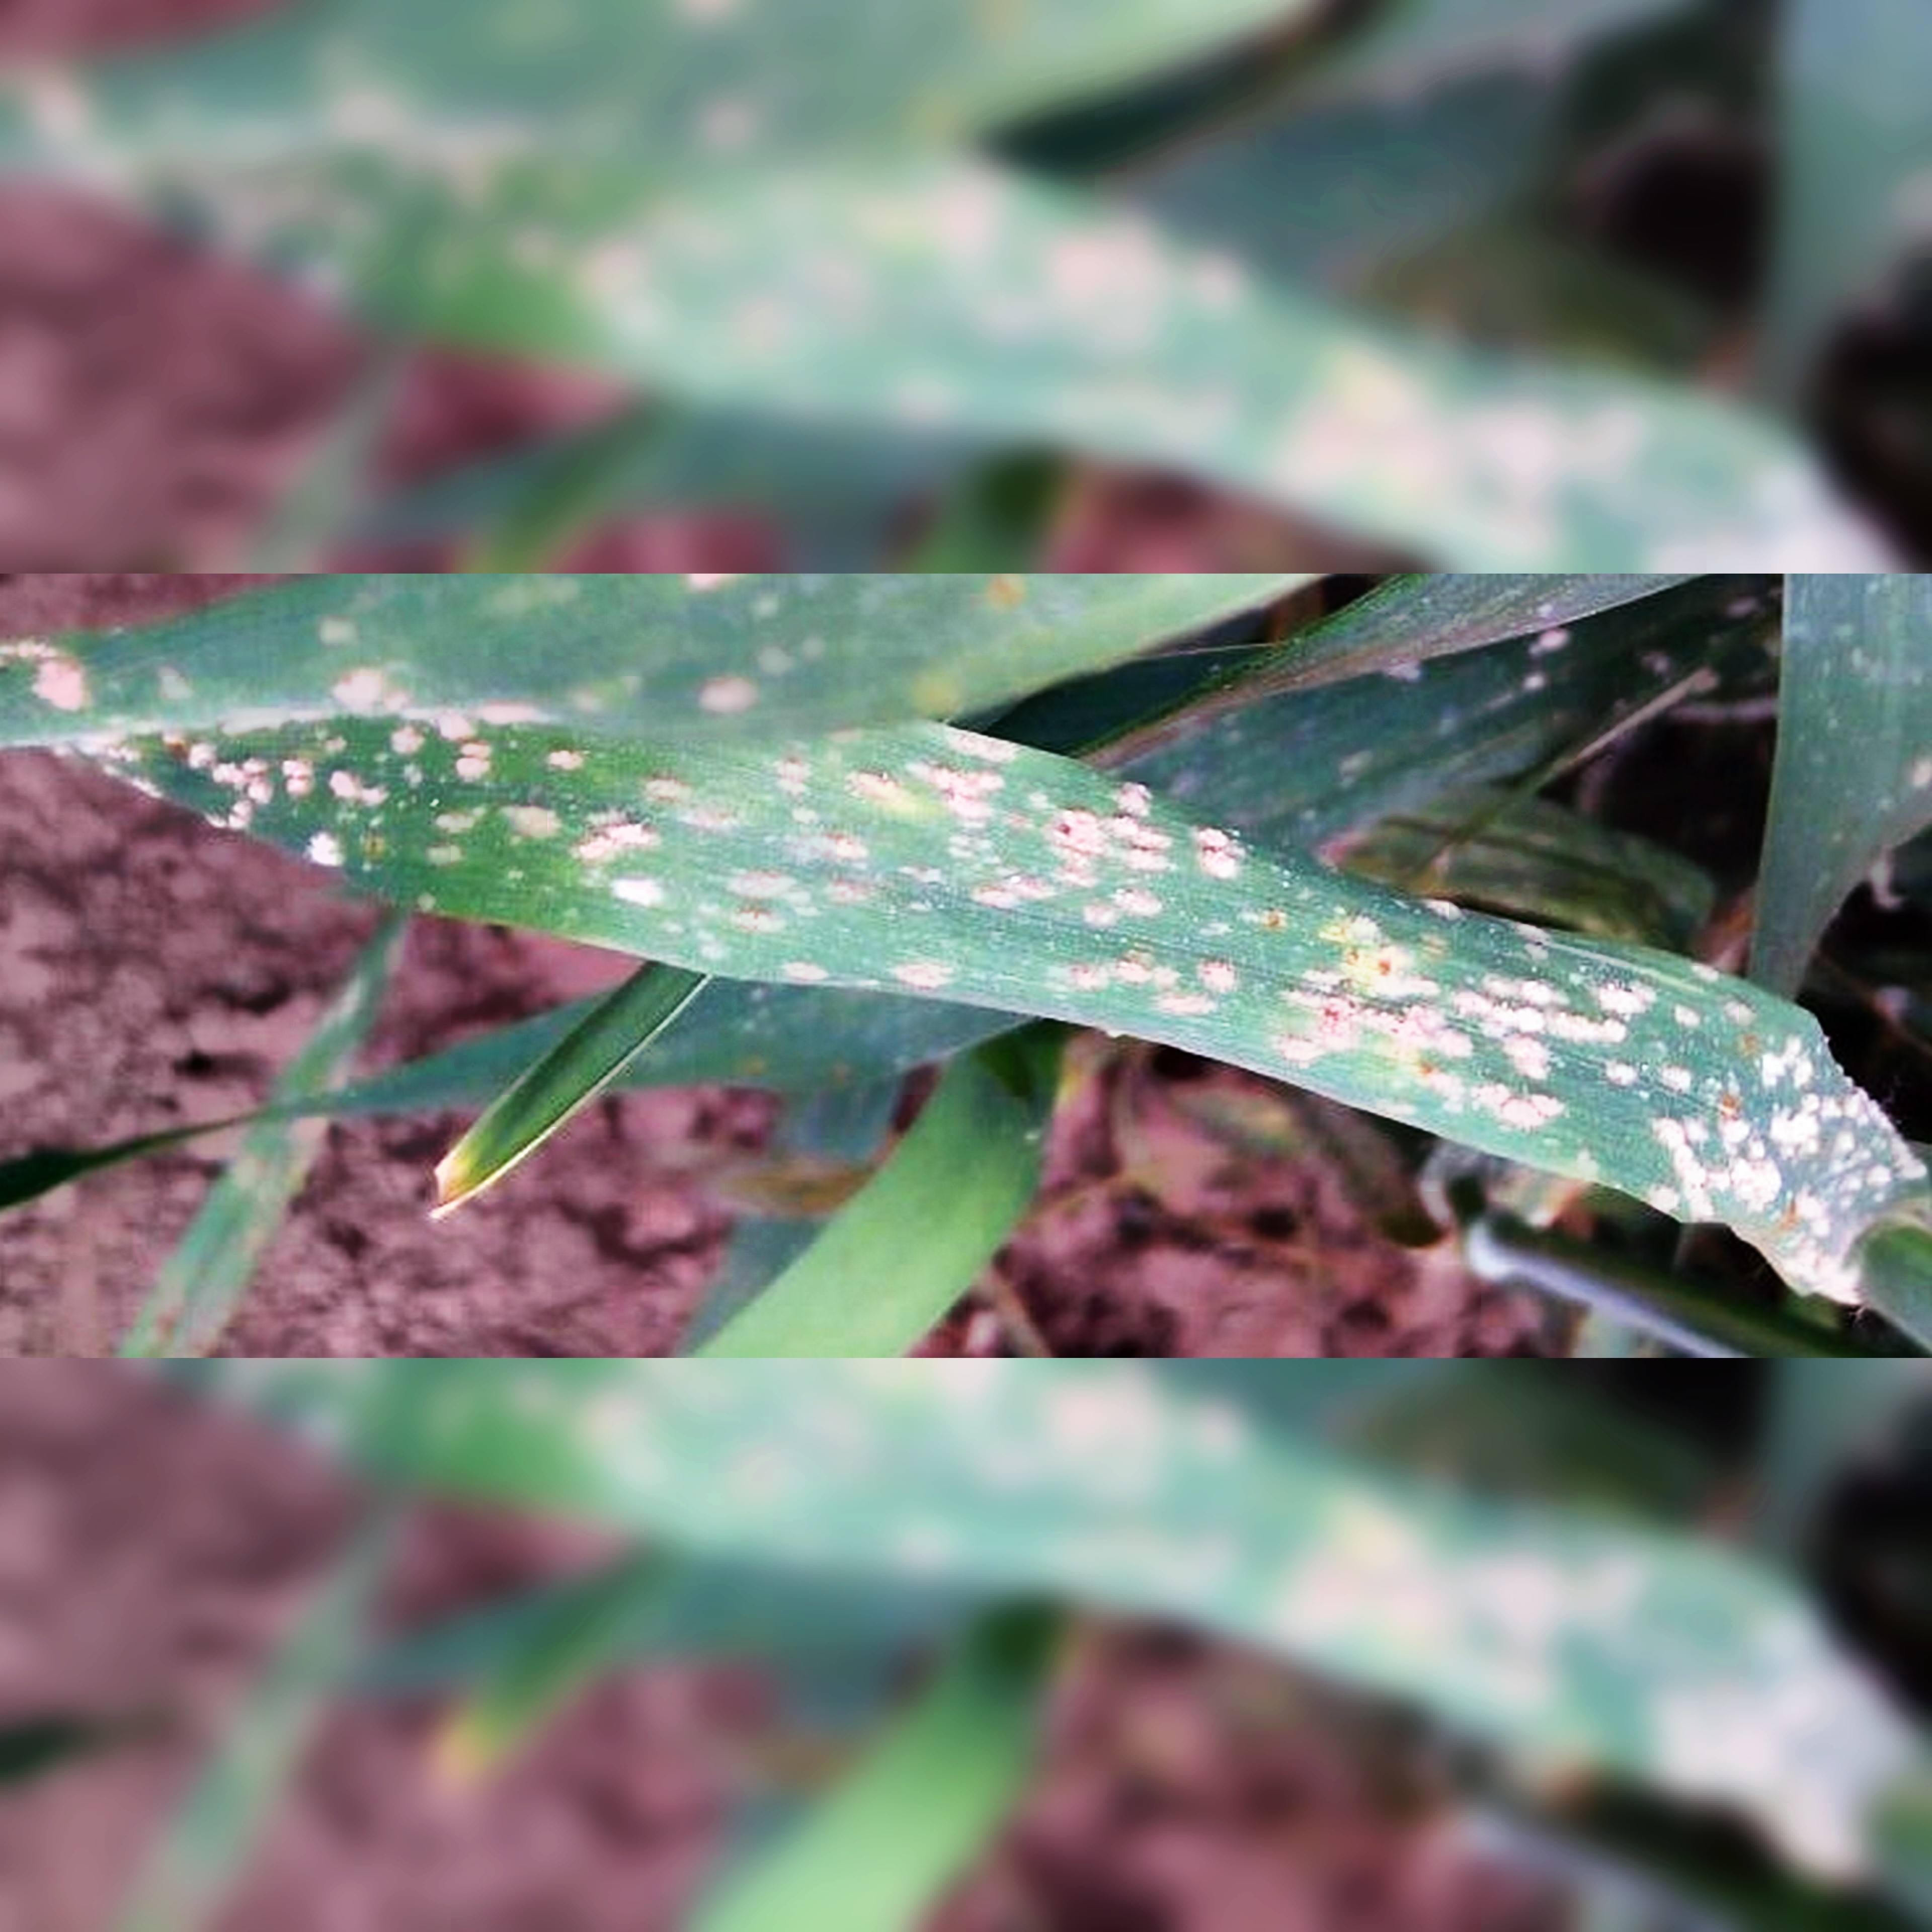Powdery Mildew: (315, 745, 1923, 1302)
